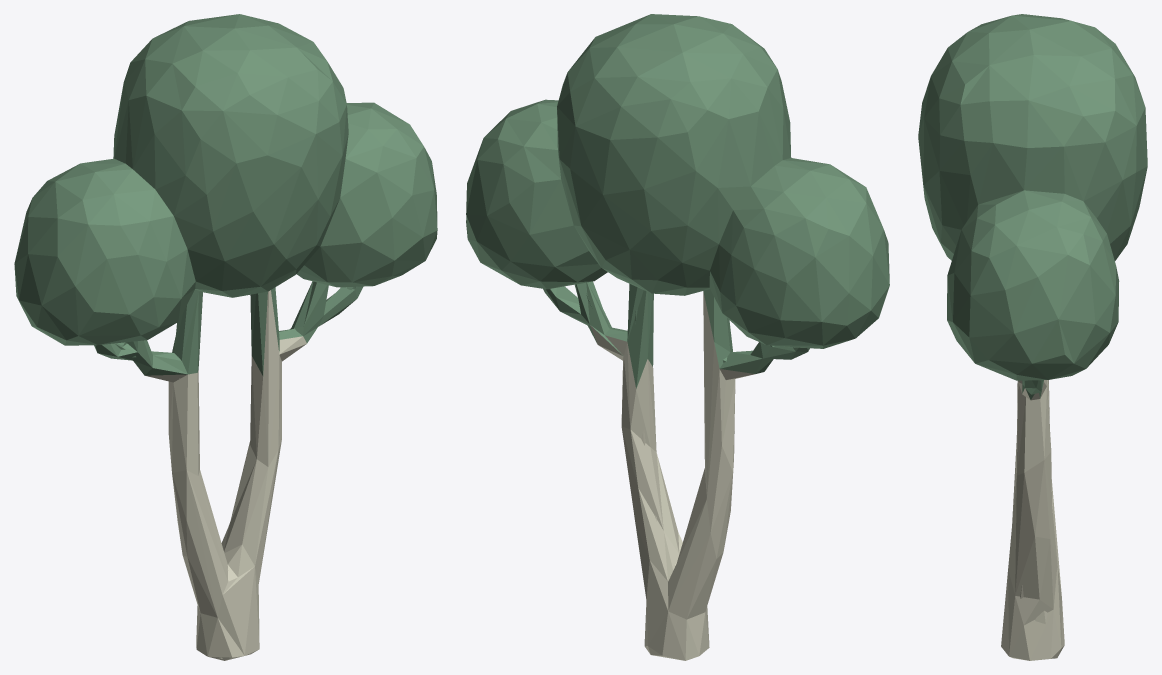
The model's file is ENV_09_BIRCH_game.glb.
3 views of the same model, side by side, from view 1: azimuth 30°, elevation 25°; view 2: azimuth 150°, elevation 25°; view 3: azimuth 270°, elevation 25° (orthographic).
Visible parts, largest first — view 1: ENV_09_BIRCH; view 2: ENV_09_BIRCH; view 3: ENV_09_BIRCH.
Part boxes in pixels (bbox=[...]): ENV_09_BIRCH: bbox=[14, 14, 437, 660]; ENV_09_BIRCH: bbox=[466, 14, 889, 660]; ENV_09_BIRCH: bbox=[918, 14, 1147, 660].
Bounding box in the file's own units: 3.91 × 5.8 × 1.93.
